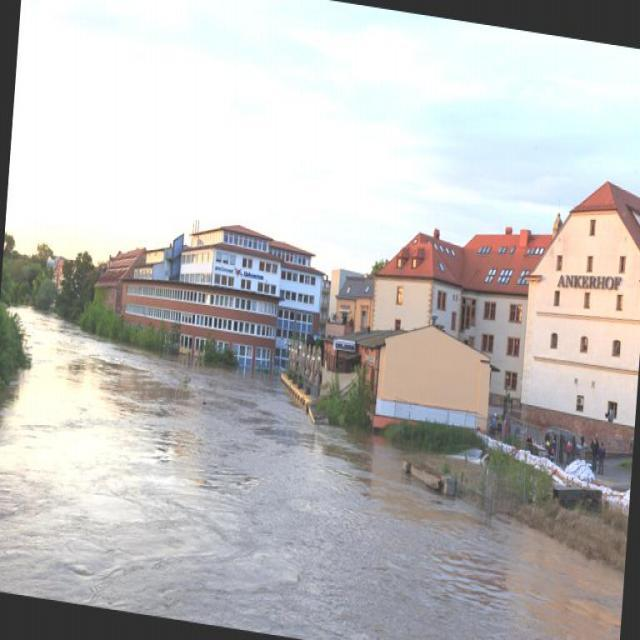flood: (0, 356, 628, 639)
